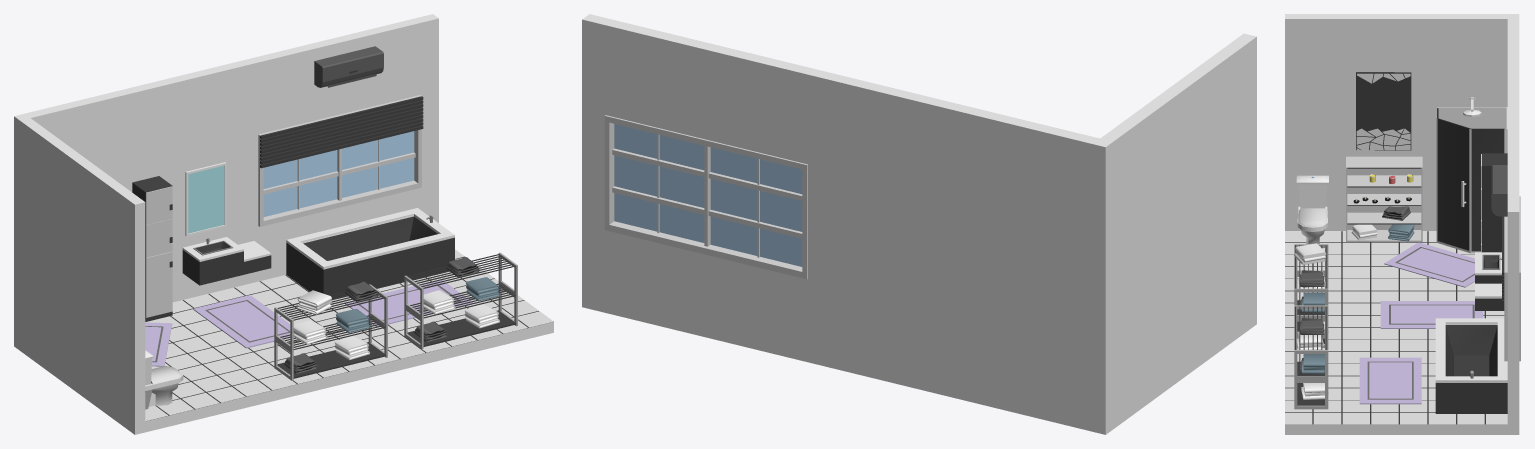
The model's file is room_24.glb.
3 views of the same model, side by side, from view 1: azimuth 30°, elevation 25°; view 2: azimuth 150°, elevation 25°; view 3: azimuth 270°, elevation 25° (orthographic). The views are drawn at different scales.
Visible parts, largest first — view 1: Walls_006.096, Walls_006.098, window_015.001, Walls_006.099, bathroom_item_014.001, floor_014.018, floor_014.017, Walls_011.022, closet_027.001, shelf_011.004, Walls_006.097, Walls_006.095 (+15 smaller); view 2: Walls_006.098, Walls_006.096, window_015.001, Walls_006.099, Walls_006.097, Walls_006.095; view 3: Walls_006.096, floor_014.017, floor_014.018, bathroom_item_031.001, bathroom_item_014.001, shelf_049.001, Walls_011.022, picture_006.007, Walls_006.095, carpet_011.003, carpet_011.001, carpet_011.002 (+19 smaller).
Part boxes in pixels (x1,y1,x2,y2): Walls_006.096: [14, 113, 145, 434]; Walls_006.098: [25, 57, 260, 302]; window_015.001: [258, 95, 423, 226]; Walls_006.099: [255, 19, 417, 133]; bathroom_item_014.001: [286, 208, 454, 298]; floor_014.018: [145, 287, 347, 421]; floor_014.017: [235, 249, 553, 371]; Walls_011.022: [145, 256, 553, 432]; closet_027.001: [132, 176, 172, 321]; shelf_011.004: [404, 252, 517, 348]; Walls_006.097: [261, 188, 417, 280]; Walls_006.095: [412, 14, 438, 222]; Walls_006.098: [804, 68, 1099, 431]; Walls_006.096: [1092, 33, 1256, 434]; window_015.001: [604, 115, 807, 279]; Walls_006.099: [608, 20, 811, 163]; Walls_006.097: [608, 231, 804, 361]; Walls_006.095: [582, 14, 615, 313]; Walls_006.096: [1285, 14, 1519, 231]; floor_014.017: [1285, 327, 1507, 424]; floor_014.018: [1285, 231, 1504, 326]; bathroom_item_031.001: [1436, 97, 1507, 253]; bathroom_item_014.001: [1435, 318, 1507, 413]; shelf_049.001: [1346, 156, 1422, 241]; Walls_011.022: [1285, 231, 1507, 434]; picture_006.007: [1356, 72, 1411, 150]; Walls_006.095: [1507, 202, 1519, 434]; carpet_011.003: [1359, 357, 1421, 404]; carpet_011.001: [1384, 242, 1474, 287]; carpet_011.002: [1380, 301, 1483, 328].
Size of the model in its own units: 8 by 4.2 by 4.03.
Materials: 1 (1 with a texture image).
